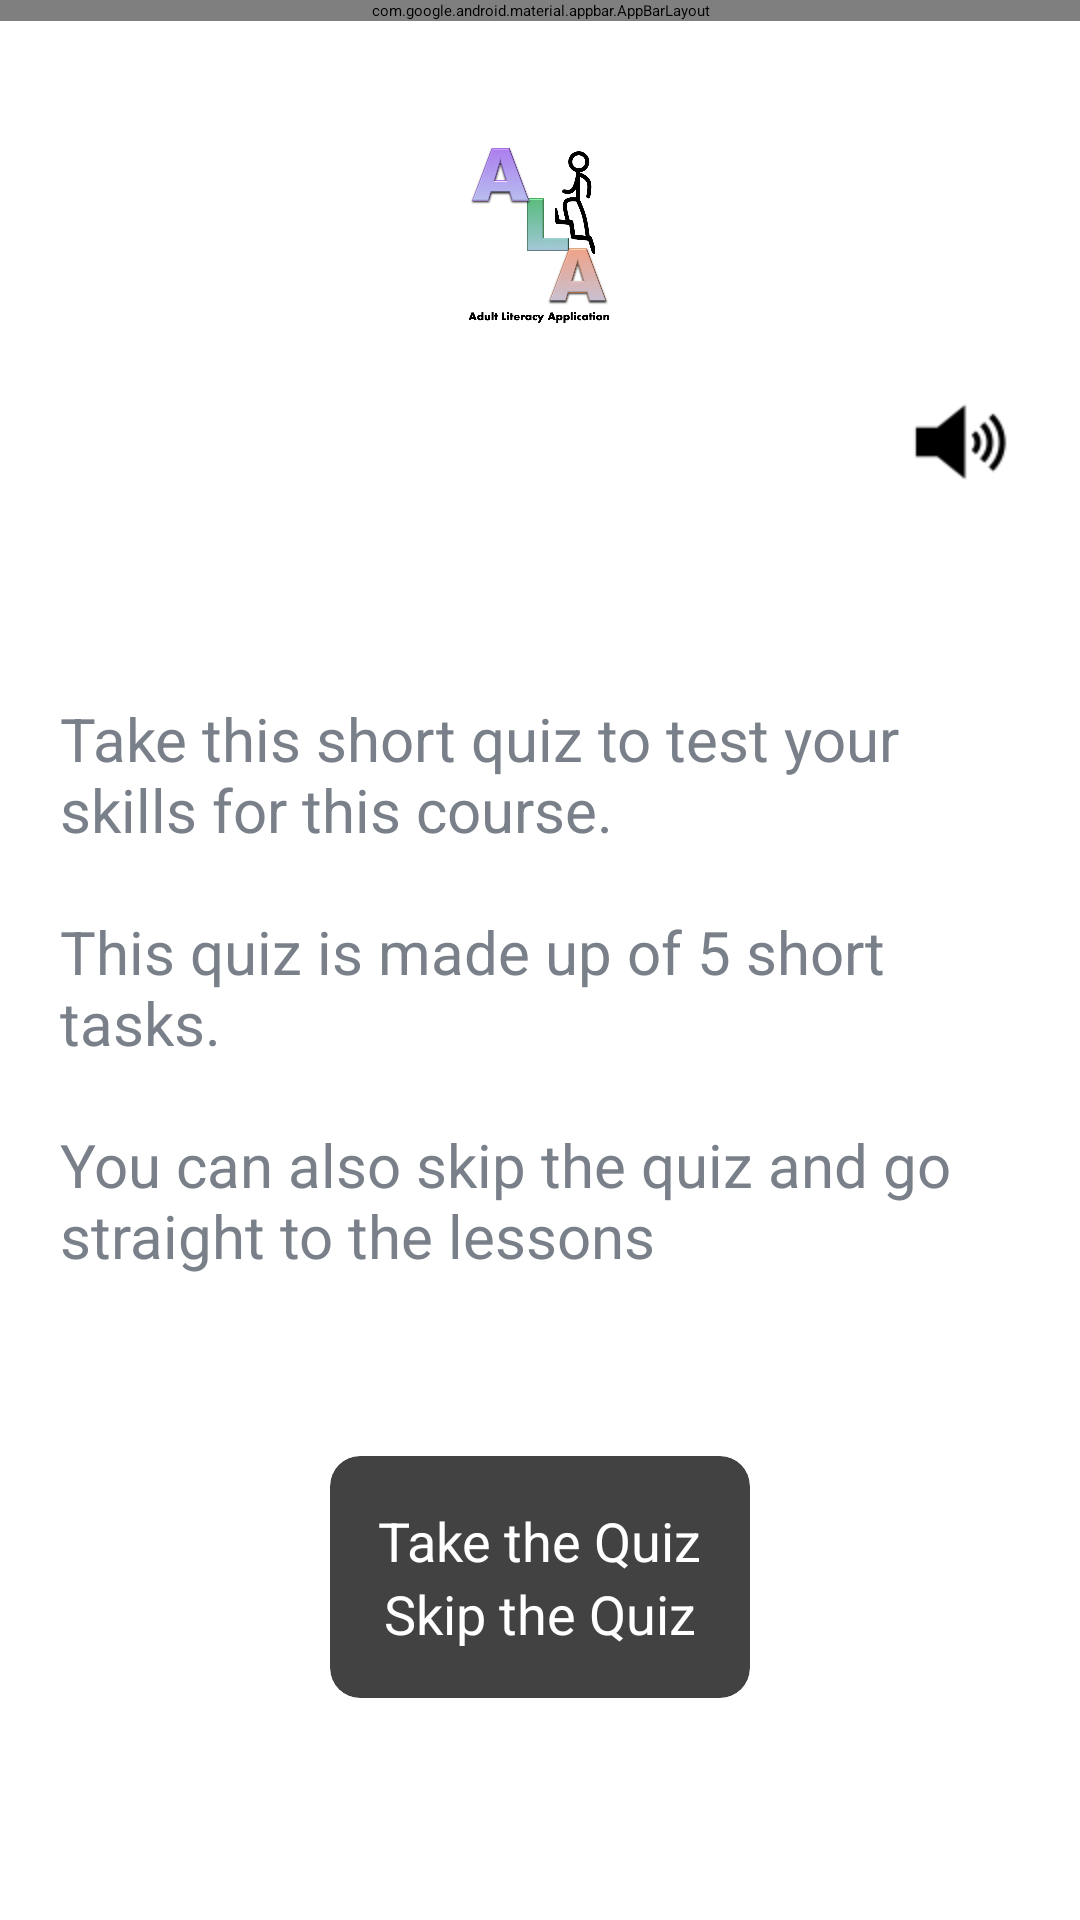

Icon bounding boxes for this 1080px×1920px phone screenshot, format (x1, y1, x2, y2):
sound: (915, 405, 1007, 479)
